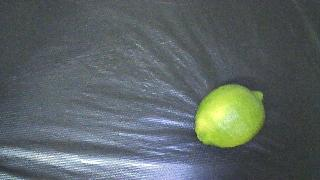LOCAL: (195, 84, 265, 148)
